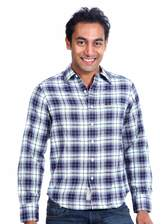clothoes: (14, 65, 156, 218)
